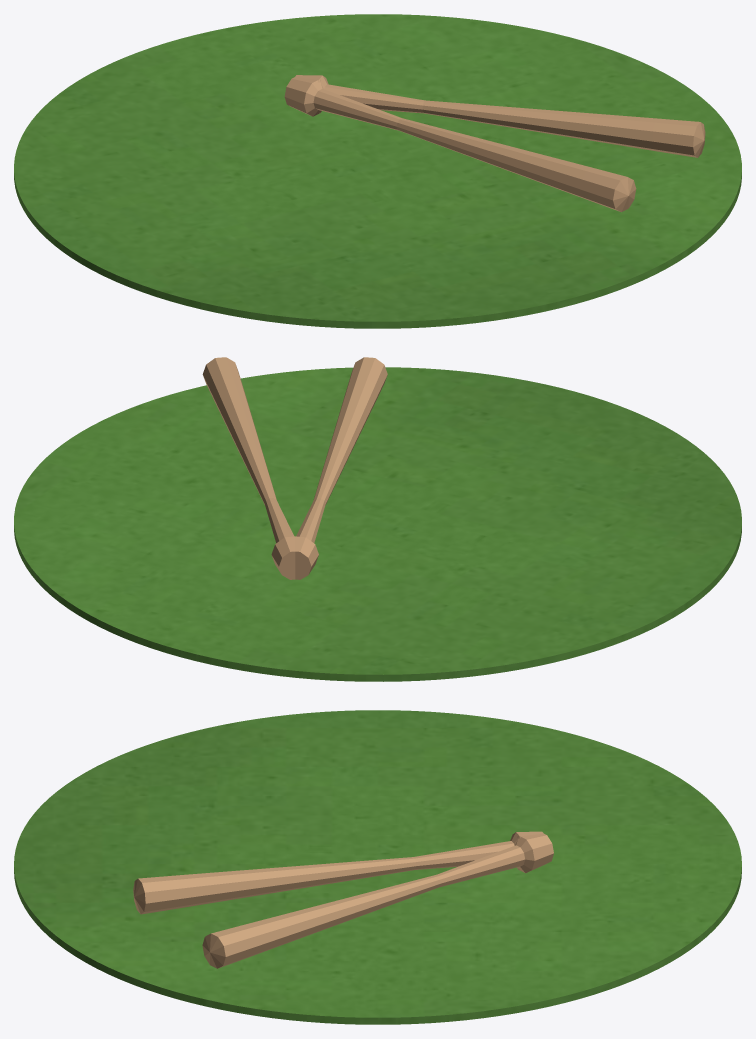
The model's file is on_deck.glb.
3 renders of one model, top to bottom at view 1: azimuth 30°, elevation 25°; view 2: azimuth 150°, elevation 25°; view 3: azimuth 270°, elevation 25°, orthographic.
Parts seen in each view (by area): view 1: on_deck_grass2, on_deck_leather; view 2: on_deck_grass2, on_deck_leather; view 3: on_deck_grass2, on_deck_leather.
Part boxes in pixels (x1,y1,x2,y2): on_deck_grass2: (14, 14, 741, 328); on_deck_leather: (284, 75, 705, 212); on_deck_grass2: (14, 367, 741, 681); on_deck_leather: (202, 357, 387, 579); on_deck_grass2: (14, 710, 741, 1024); on_deck_leather: (133, 831, 553, 968).
Size of the model in its own units: 1.32 by 0.1046 by 1.32.
2 materials, 1 textured.
